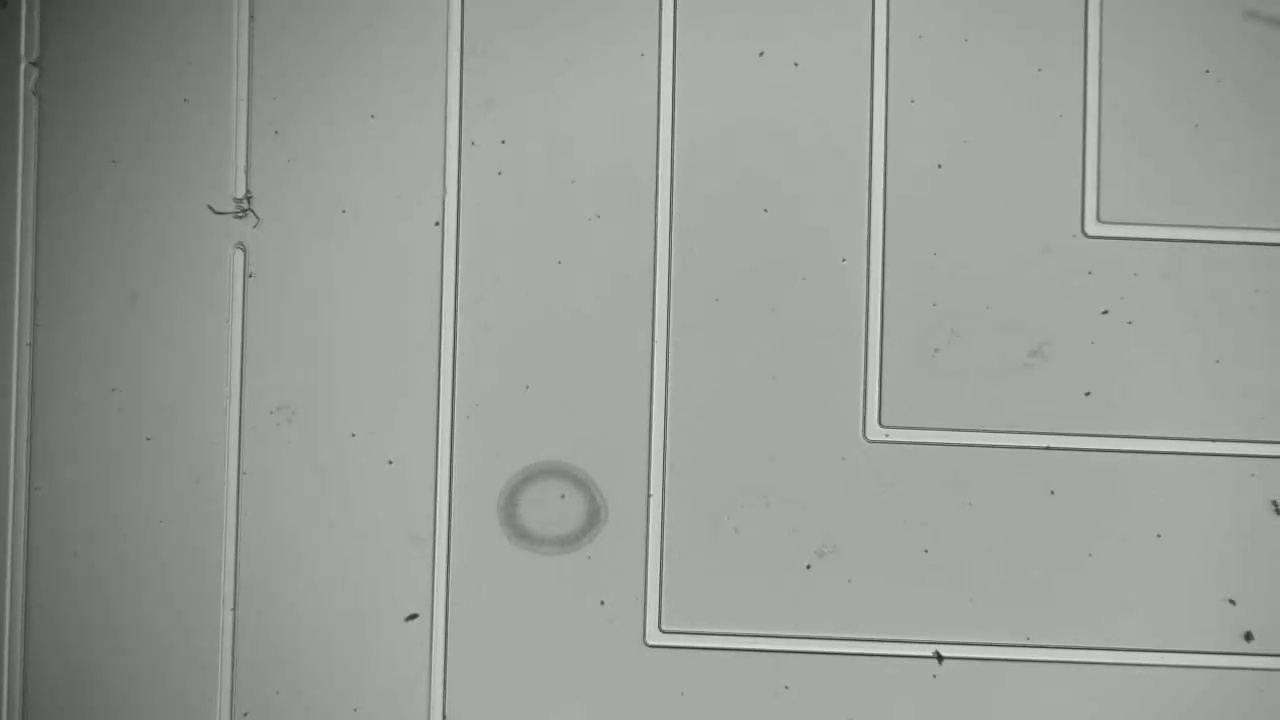edge_bite: (14, 69, 45, 107), (17, 49, 46, 75)
open: (219, 177, 263, 273)
stains_enbedded: (921, 636, 953, 669)
